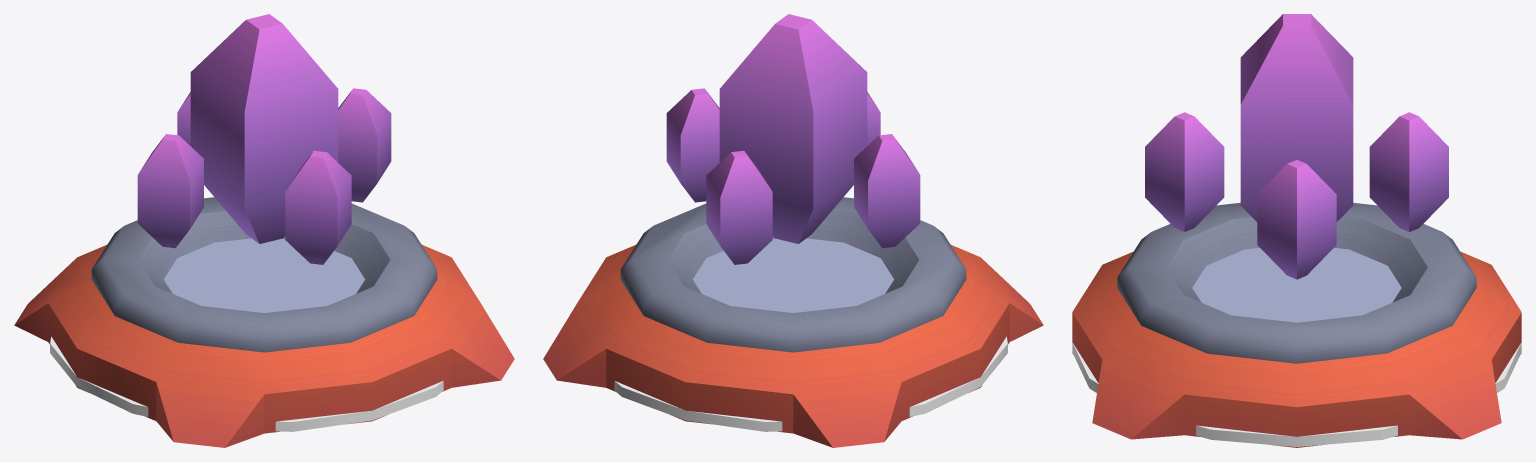
File: core.glb
3 views of the same model, side by side, from view 1: azimuth 30°, elevation 25°; view 2: azimuth 150°, elevation 25°; view 3: azimuth 270°, elevation 25° (orthographic). The views are drawn at different scales.
Parts seen in each view (by area): view 1: tower-round-crystals, crystal, crystal-small.002, crystal-small.003, crystal-small.001, core_upgrade_band, crystal-small; view 2: tower-round-crystals, crystal, crystal-small, crystal-small.003, crystal-small.001, core_upgrade_band, crystal-small.002; view 3: tower-round-crystals, crystal, crystal-small.001, crystal-small, crystal-small.002, core_upgrade_band.
Boxes of the visible parts, x1,y1,x2,y2 form: tower-round-crystals: (14,197,514,447); crystal: (190,14,338,243); crystal-small.002: (285,150,351,264); crystal-small.003: (137,134,203,248); crystal-small.001: (338,88,391,202); core_upgrade_band: (50,336,443,431); crystal-small: (177,92,190,145); tower-round-crystals: (543,197,1043,447); crystal: (719,14,867,243); crystal-small: (706,150,772,264); crystal-small.003: (854,134,920,248); crystal-small.001: (666,88,719,202); core_upgrade_band: (614,336,1007,431); crystal-small.002: (867,92,880,145); tower-round-crystals: (1072,202,1521,447); crystal: (1240,14,1353,221); crystal-small.001: (1257,160,1336,279); crystal-small: (1369,112,1448,231); crystal-small.002: (1145,112,1224,231); core_upgrade_band: (1072,342,1521,446).
Bounding box in the file's own units: 1 × 0.8175 × 1.
Materials: 2 (1 with a texture image).
